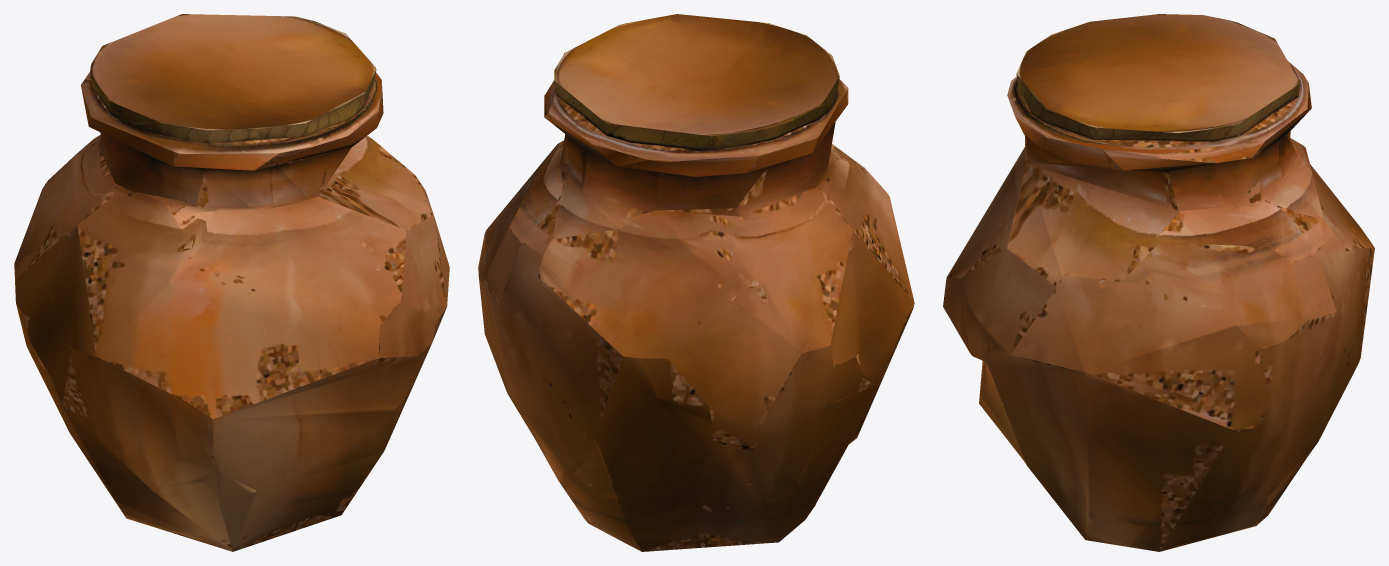
The model's file is turtle-prop-water-jar.glb.
3 views of the same model, side by side, from view 1: azimuth 30°, elevation 25°; view 2: azimuth 150°, elevation 25°; view 3: azimuth 270°, elevation 25° (orthographic).
Parts seen in each view (by area): view 1: Mesh_0; view 2: Mesh_0; view 3: Mesh_0.
Boxes of the visible parts, x1,y1,x2,y2 form: Mesh_0: (14,14,449,551); Mesh_0: (478,14,914,551); Mesh_0: (943,14,1374,551).
Size of the model in its own units: 0.0436 by 0.05 by 0.0451.
Materials: 1 (1 with a texture image).
